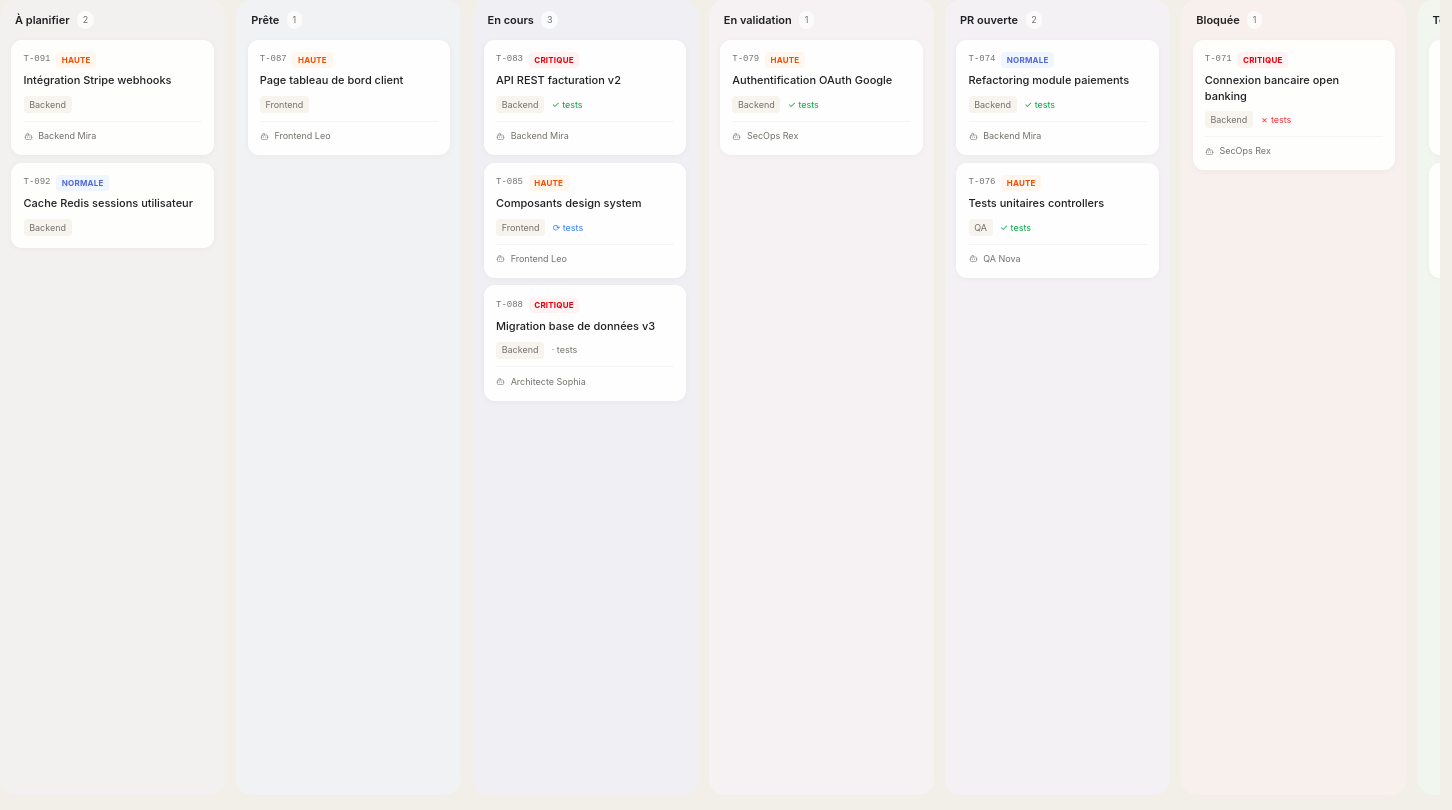
Test: controls without fake behavior › disables cancellation for states rejected by the mission state machine
Step 1. Click the text "Connexion bancaire open banking" → (1272,88), box [1205,73,1339,102]
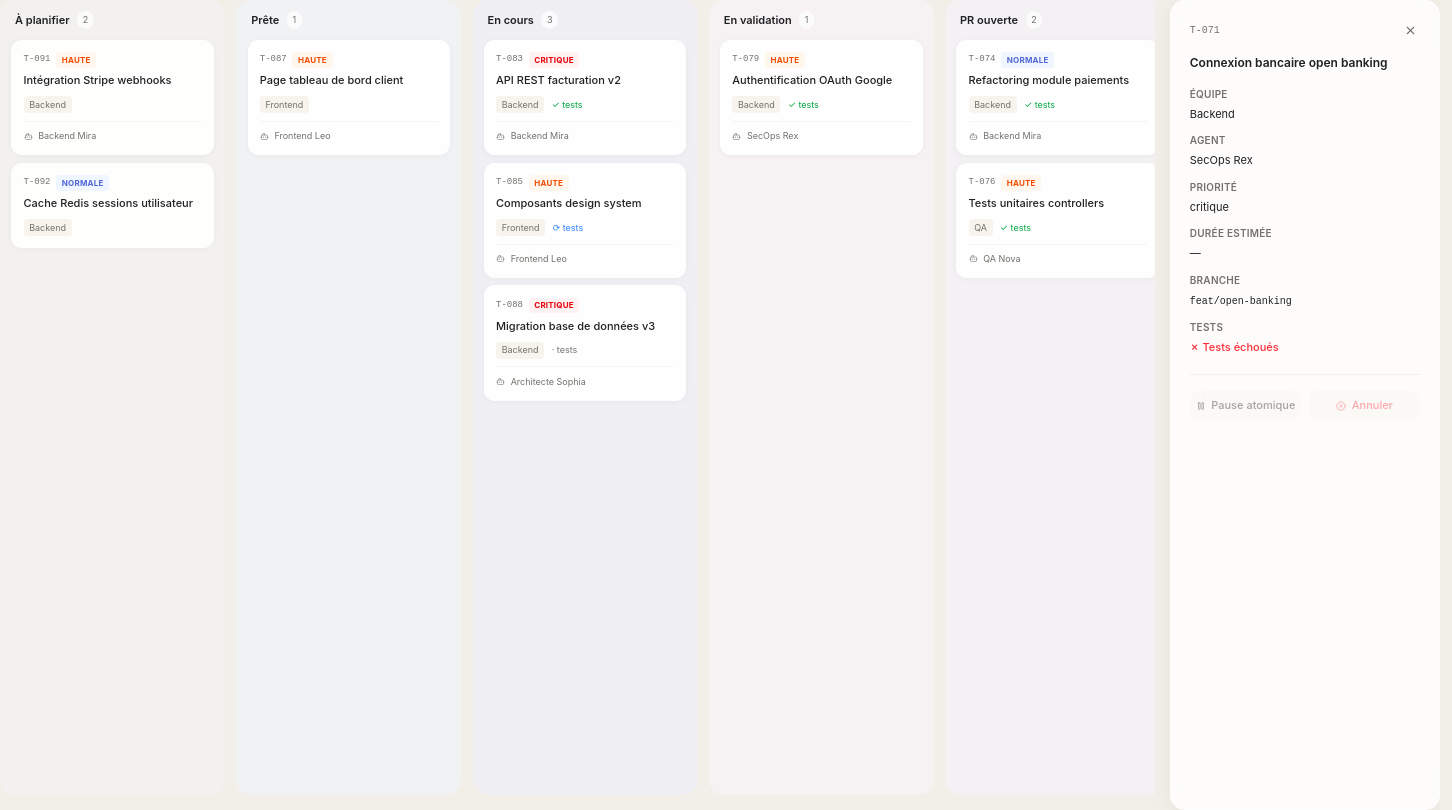
Check: the button "Annuler" is disabled, box [1309,390,1420,421]
